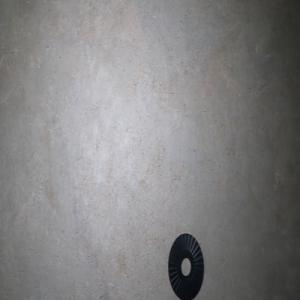Washer: (168, 233, 204, 300)
